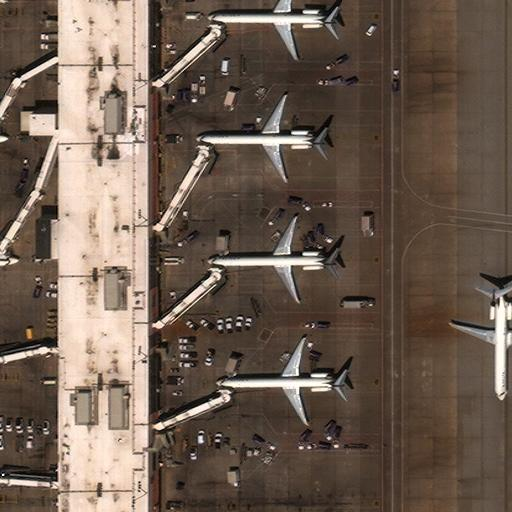Medium Civil Transport: (211, 337, 345, 426), (193, 94, 326, 183), (206, 216, 339, 303), (207, 0, 338, 60), (448, 284, 511, 404)
